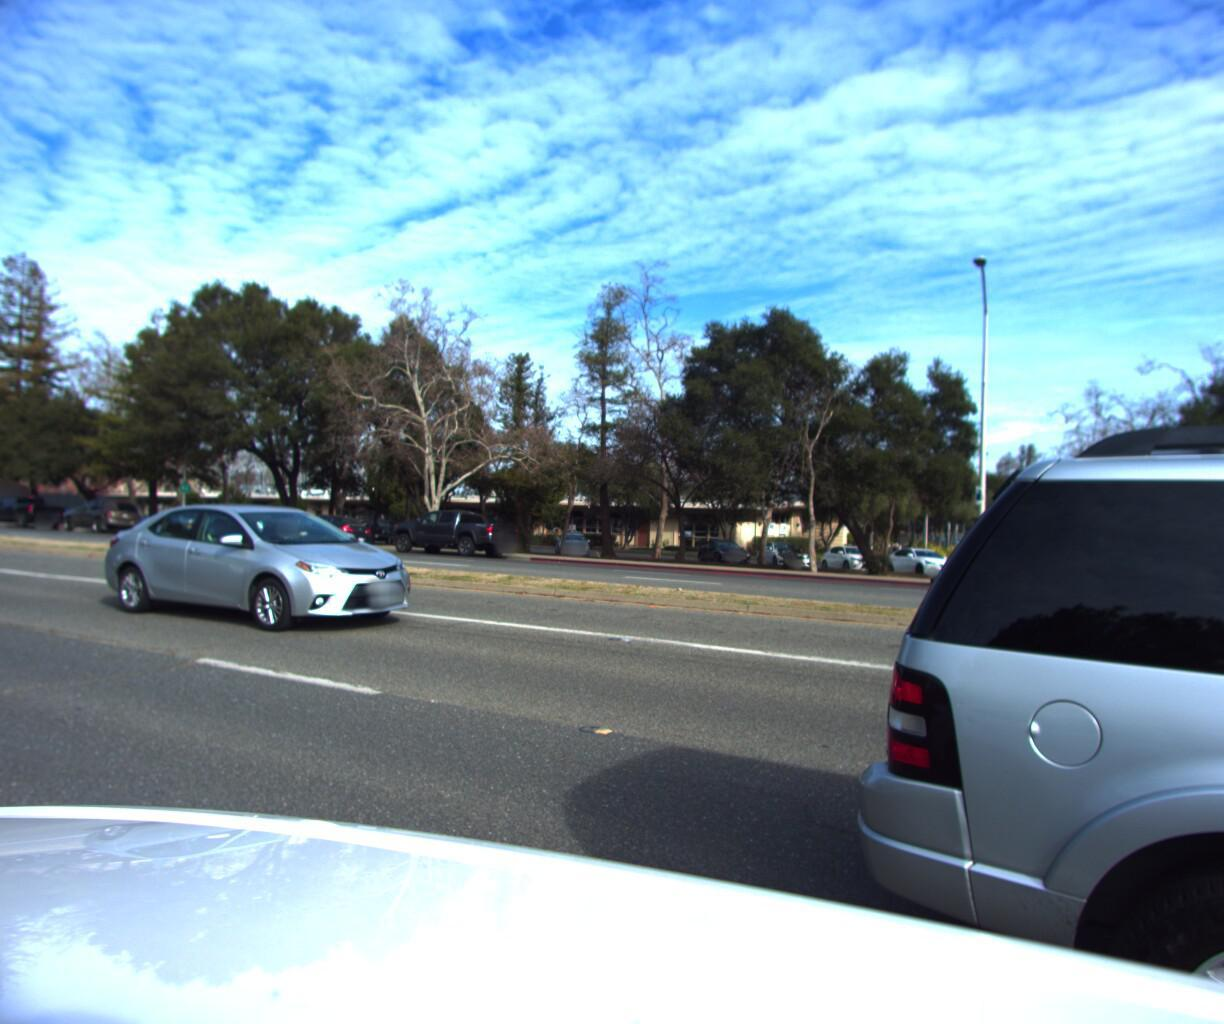car: (88, 494, 442, 635), (384, 507, 525, 564), (268, 511, 378, 553), (131, 513, 218, 542), (57, 509, 144, 538), (0, 497, 62, 532)
